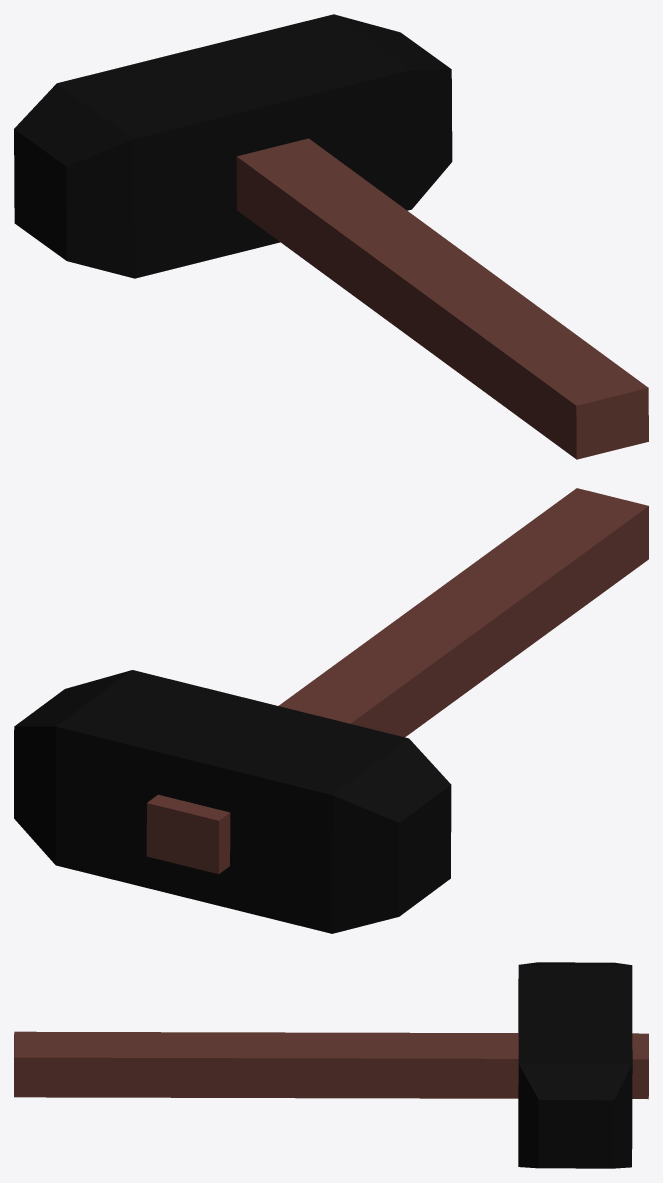
File: hammer_lowpoly.fbx
3 renders of one model, top to bottom at view 1: azimuth 30°, elevation 25°; view 2: azimuth 150°, elevation 25°; view 3: azimuth 270°, elevation 25°, orthographic. The views are drawn at different scales.
Parts seen in each view (by area): view 1: hammer.003; view 2: hammer.003; view 3: hammer.003.
Boxes of the visible parts, x1,y1,x2,y2 form: hammer.003: (14, 14, 648, 459); hammer.003: (14, 488, 648, 933); hammer.003: (14, 962, 648, 1168).
Bounding box in the file's own units: 19.05 × 6.65 × 36.67.
